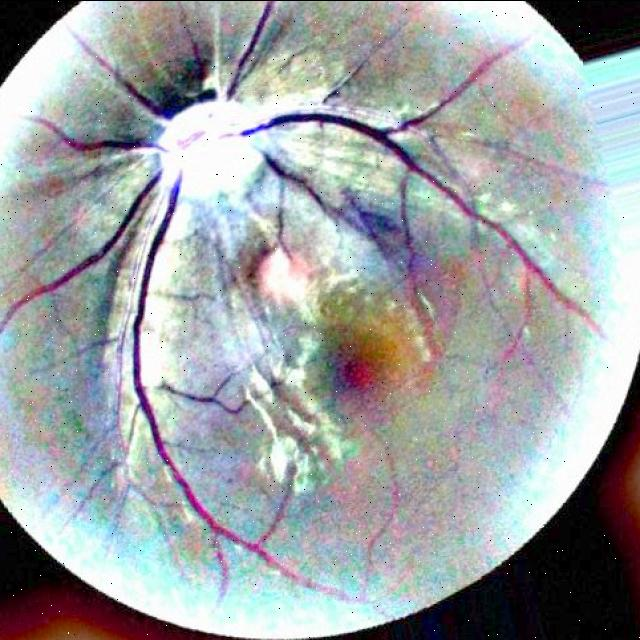Macula: (336, 351, 382, 404)
Nerves: (28, 29, 600, 333), (131, 167, 332, 590), (0, 165, 163, 331), (206, 0, 278, 105), (262, 150, 328, 263)
Optic Disk: (159, 94, 260, 197)
